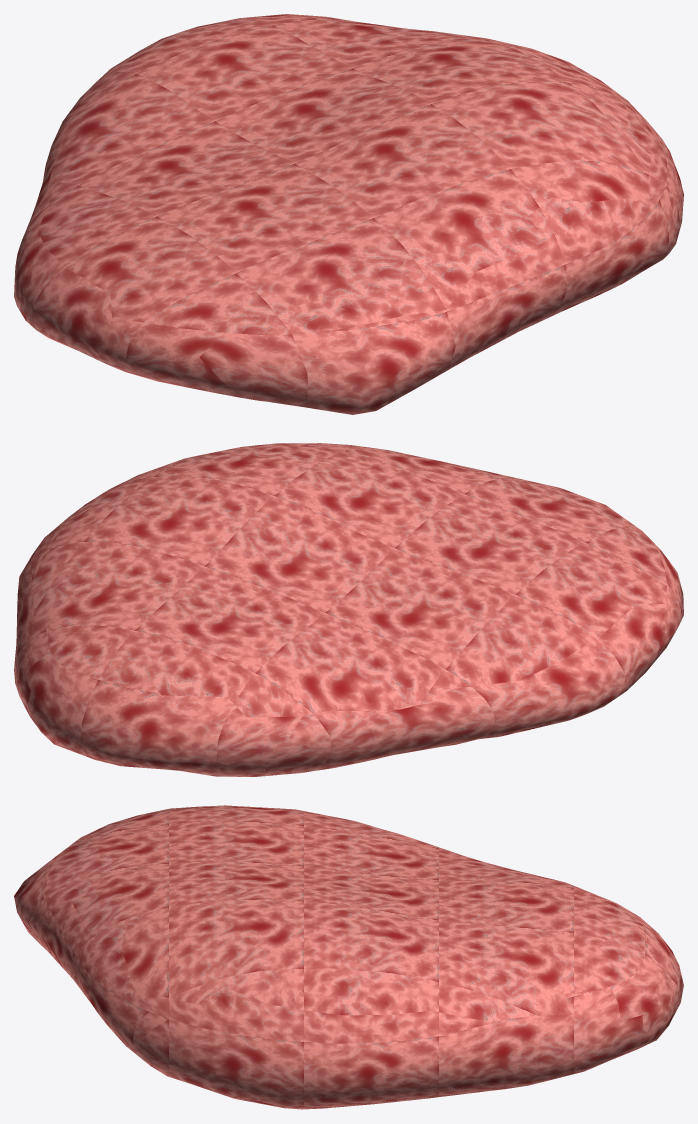
Rendered from HumanGoop.fbx.
The picture shows the model from 3 angles, top to bottom: view 1: azimuth 30°, elevation 25°; view 2: azimuth 150°, elevation 25°; view 3: azimuth 270°, elevation 25°; orthographic projection. The views are drawn at different scales.
Visible parts, largest first — view 1: Mball.007; view 2: Mball.007; view 3: Mball.007.
Boxes of the visible parts, x1,y1,x2,y2 form: Mball.007: (14, 14, 683, 414); Mball.007: (14, 443, 683, 776); Mball.007: (14, 805, 683, 1109).
Bounding box in the file's own units: 526 × 144 × 567.
Materials: 1 (1 with a texture image).
